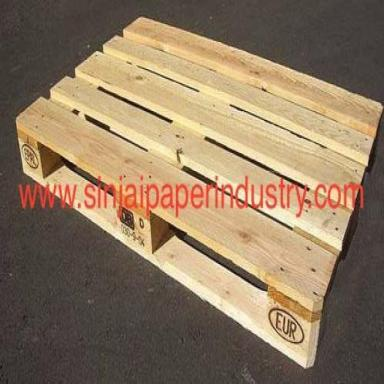pallet: (15, 15, 383, 370)
